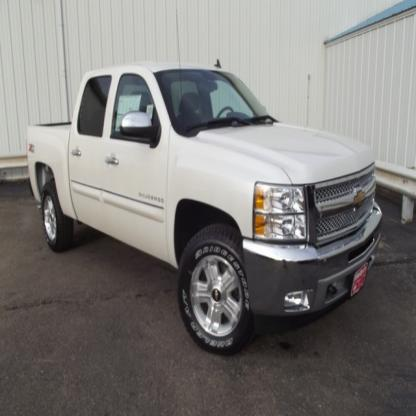Vehicle: (28, 62, 382, 358)
